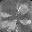people: (17, 4, 29, 16), (7, 19, 17, 31), (0, 20, 10, 28), (1, 11, 12, 18), (20, 19, 31, 25)
